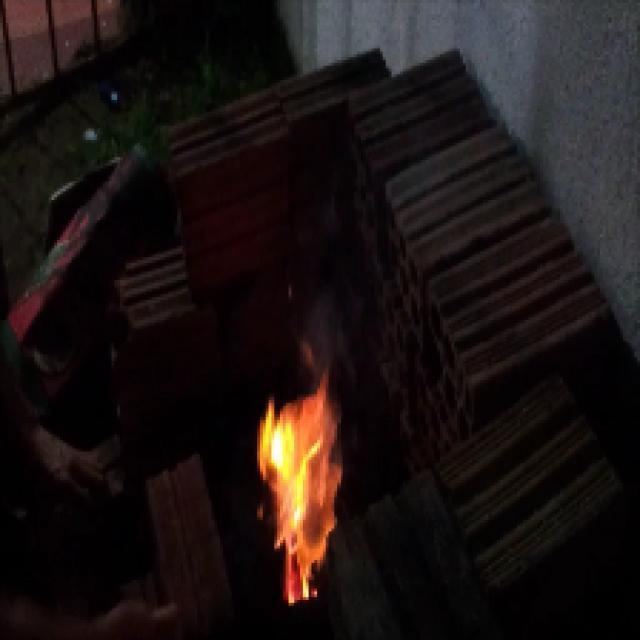fire: (225, 339, 364, 599)
